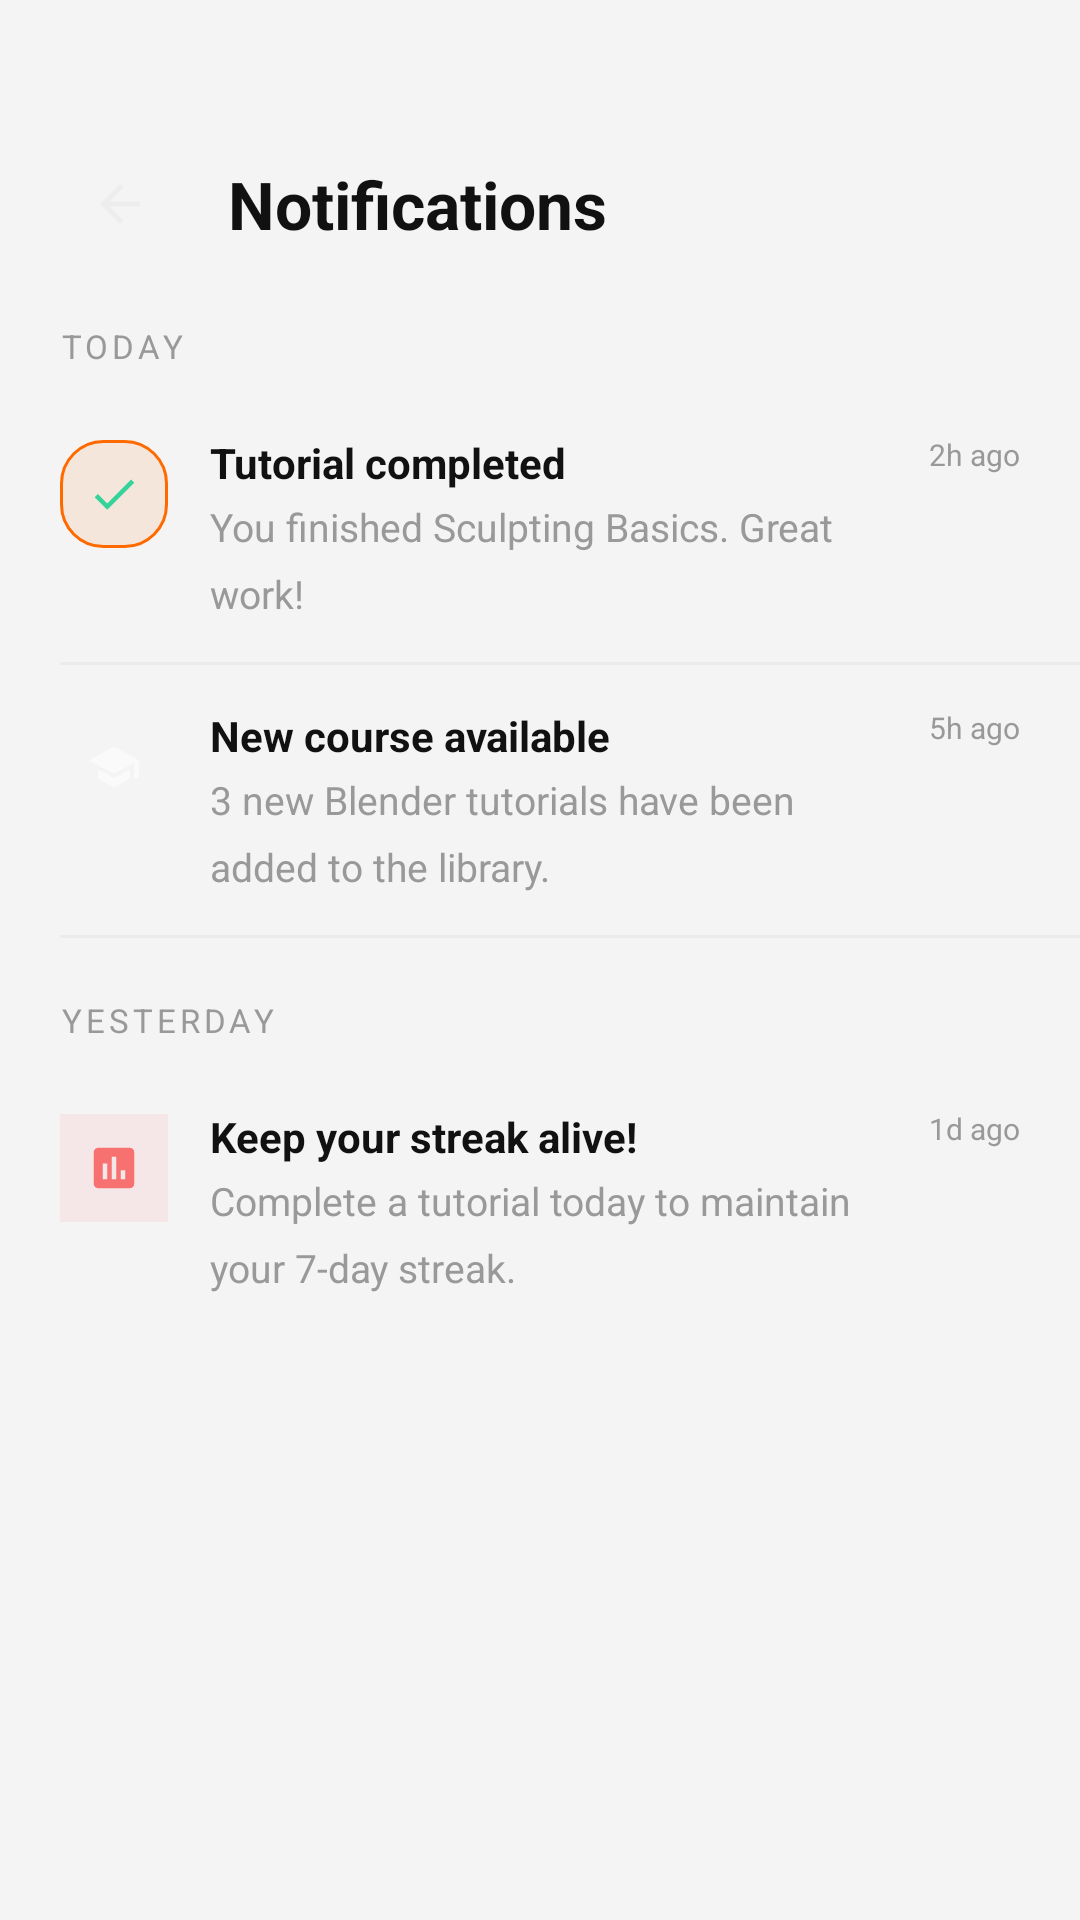

Icon click points for this 1080px x 1920px phone screenshot, format [x,y]:
check: [114,494]
progress: [114,1168]
